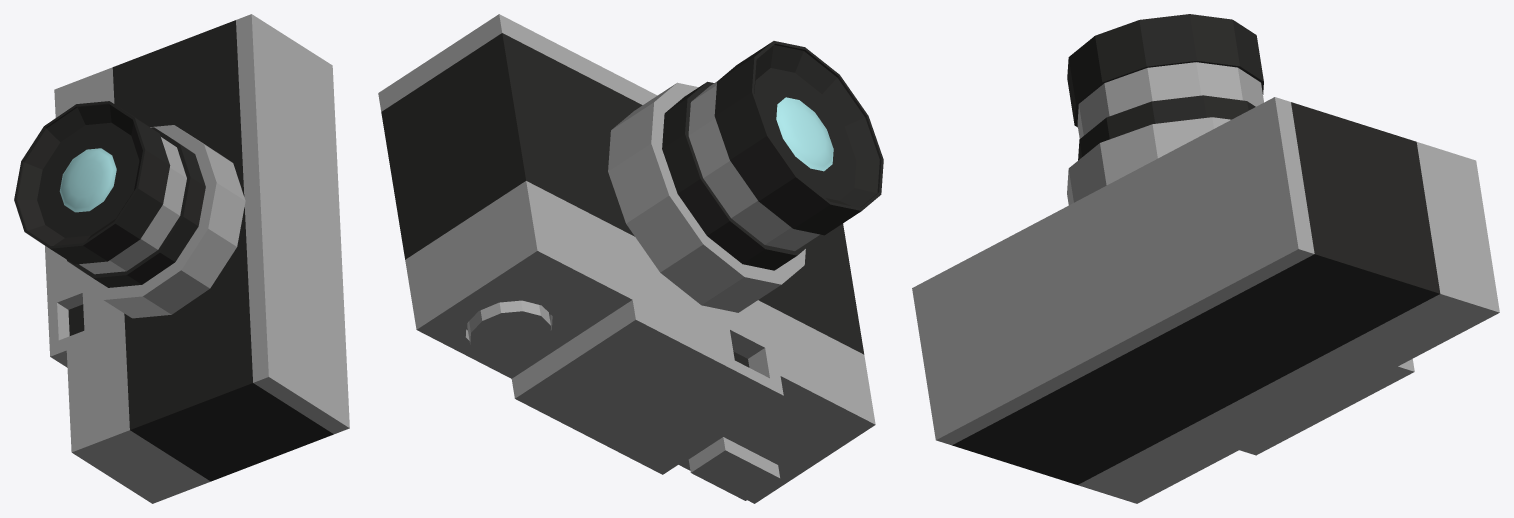
The model's file is camera.glb.
3 renders of one model, left to right at view 1: azimuth 30°, elevation 25°; view 2: azimuth 150°, elevation 25°; view 3: azimuth 270°, elevation 25°, orthographic. The views are drawn at different scales.
Parts seen in each view (by area): view 1: Lens; view 2: Lens; view 3: Lens.
Part boxes in pixels (x1=…): Lens: x1=14, y1=14, x2=349, y2=503; Lens: x1=378, y1=14, x2=883, y2=503; Lens: x1=912, y1=14, x2=1499, y2=503.
Bounding box in the file's own units: 0.1433 × 0.1583 × 0.1689.
